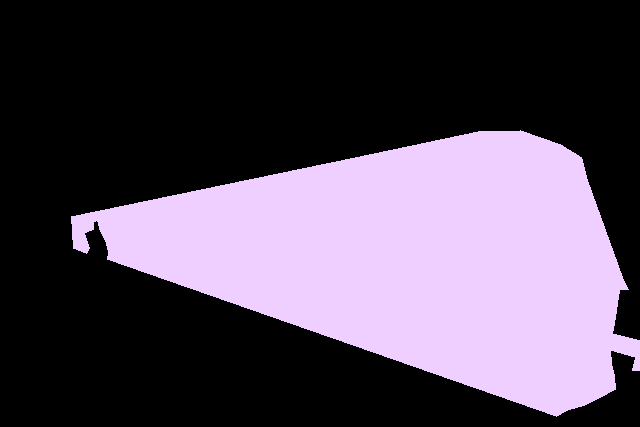Train: (71, 130, 640, 416)
